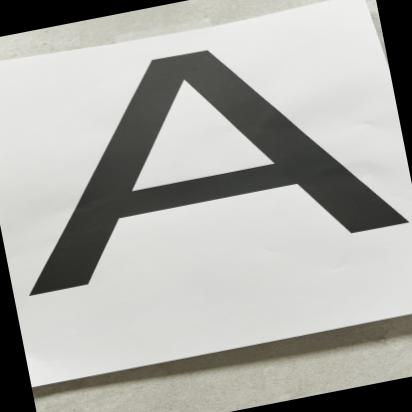seat: (15, 7, 412, 294)
